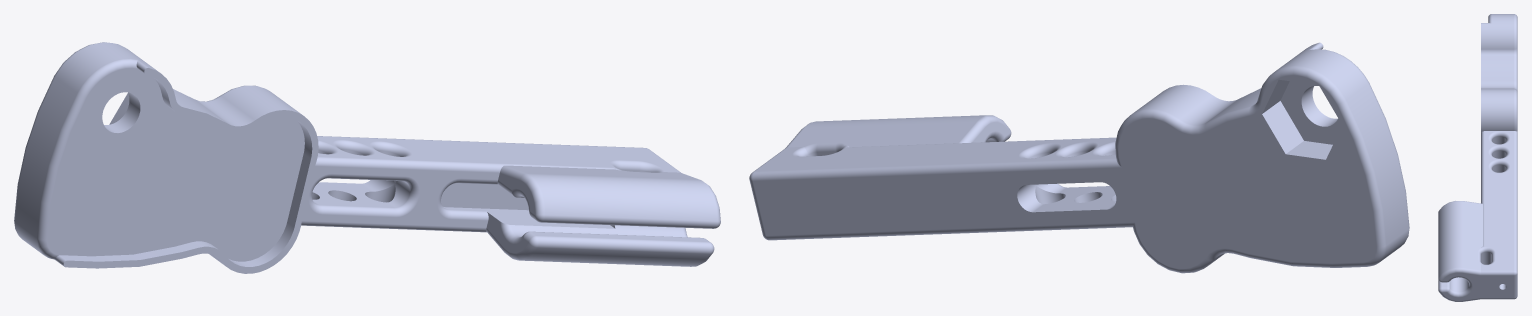
Rendered from holder_for_holder.obj.
3 views of the same model, side by side, from view 1: azimuth 30°, elevation 25°; view 2: azimuth 150°, elevation 25°; view 3: azimuth 270°, elevation 25° (orthographic). The views are drawn at different scales.
Visible parts, largest first — view 1: Halter_1, Halter, Halter_2; view 2: Halter_1, Halter_2, Halter; view 3: Halter, Halter_2, Halter_1.
Part boxes in pixels (<box>): Halter_1: <box>14,42,318,273</box>; Halter: <box>268,136,720,266</box>; Halter_2: <box>403,139,685,214</box>; Halter_1: <box>1115,42,1409,273</box>; Halter_2: <box>749,137,1020,240</box>; Halter: <box>790,115,1155,232</box>; Halter: <box>1438,128,1517,301</box>; Halter_2: <box>1475,177,1517,299</box>; Halter_1: <box>1481,14,1517,129</box>.
Size of the model in its own units: 50.13 by 23.25 by 10.79.
